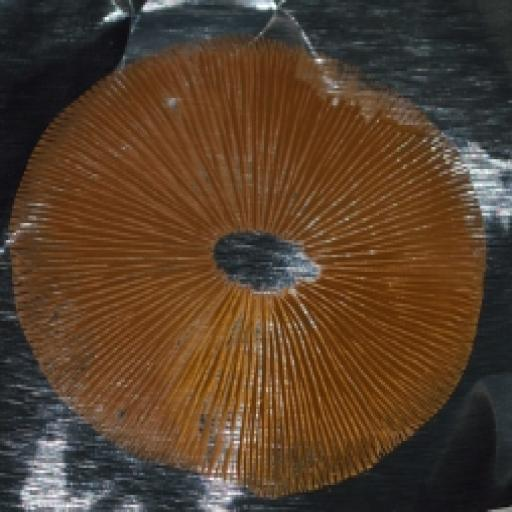mushroom: (2, 37, 499, 502)
